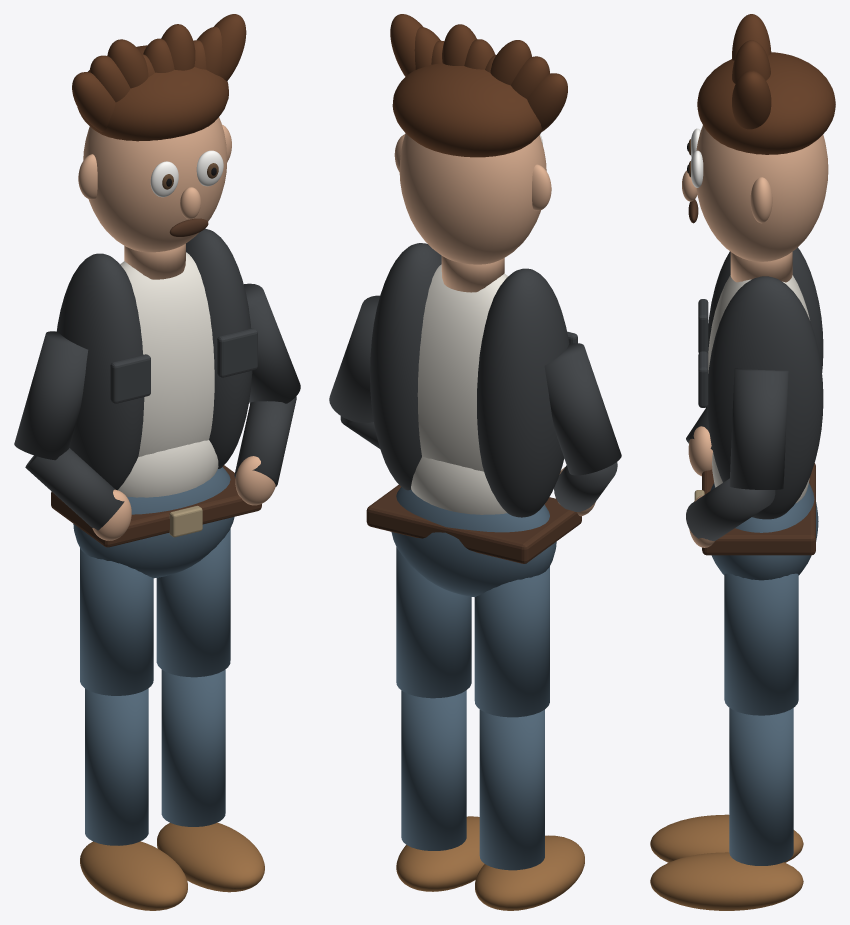
Rendered from male3.fbx.
The picture shows the model from 3 angles, left to right: view 1: azimuth 30°, elevation 25°; view 2: azimuth 150°, elevation 25°; view 3: azimuth 270°, elevation 25°; orthographic projection. The views are drawn at different scales.
Visible parts, largest first — view 1: JacketLeft, Torso, Head, Calf.001, Calf, Thigh, Thigh.001, JacketRight, HairCap, UpperArm, Hips, Shoe (+22 smaller); view 2: JacketLeft, Head, Torso, JacketRight, HairCap, Calf, Calf.001, Thigh, Thigh.001, Hips, UpperArm, Belt (+14 smaller); view 3: JacketRight, Head, Thigh.001, Calf.001, HairCap, Shoe.001, UpperArm.001, Belt, Hips, Forearm.001, Shoe, JacketLeft (+10 smaller).
Boxes of the visible parts, bbox=[...] form: JacketLeft: bbox=[56, 253, 144, 490]; Torso: bbox=[120, 252, 214, 456]; Head: bbox=[83, 117, 227, 252]; Calf.001: bbox=[161, 669, 225, 826]; Calf: bbox=[85, 688, 148, 845]; Thigh: bbox=[80, 548, 153, 695]; Thigh.001: bbox=[156, 528, 230, 677]; JacketRight: bbox=[186, 228, 252, 468]; HairCap: bbox=[77, 45, 228, 141]; UpperArm: bbox=[14, 331, 88, 460]; Hips: bbox=[73, 467, 234, 578]; Shoe: bbox=[80, 841, 187, 910]; JacketLeft: bbox=[477, 268, 569, 517]; Head: bbox=[399, 133, 546, 264]; Torso: bbox=[417, 264, 507, 471]; JacketRight: bbox=[370, 243, 441, 490]; HairCap: bbox=[392, 63, 541, 157]; Calf: bbox=[479, 709, 544, 870]; Calf.001: bbox=[401, 690, 466, 850]; Thigh: bbox=[474, 566, 549, 717]; Thigh.001: bbox=[396, 547, 471, 698]; Hips: bbox=[391, 487, 556, 597]; UpperArm: bbox=[544, 343, 621, 475]; Belt: bbox=[366, 484, 581, 563]; JacketRight: bbox=[707, 276, 823, 519]; Head: bbox=[696, 125, 828, 261]; Thigh.001: bbox=[724, 573, 798, 715]; Calf.001: bbox=[729, 708, 793, 865]; HairCap: bbox=[697, 52, 835, 154]; Shoe.001: bbox=[650, 852, 803, 910]; UpperArm.001: bbox=[729, 368, 788, 489]; Belt: bbox=[702, 463, 815, 555]; Hips: bbox=[710, 483, 818, 580]; Forearm.001: bbox=[686, 478, 775, 540]; Shoe: bbox=[650, 814, 803, 862]; JacketLeft: bbox=[708, 247, 823, 372].
Size of the model in its own units: 131 by 380 by 75.
